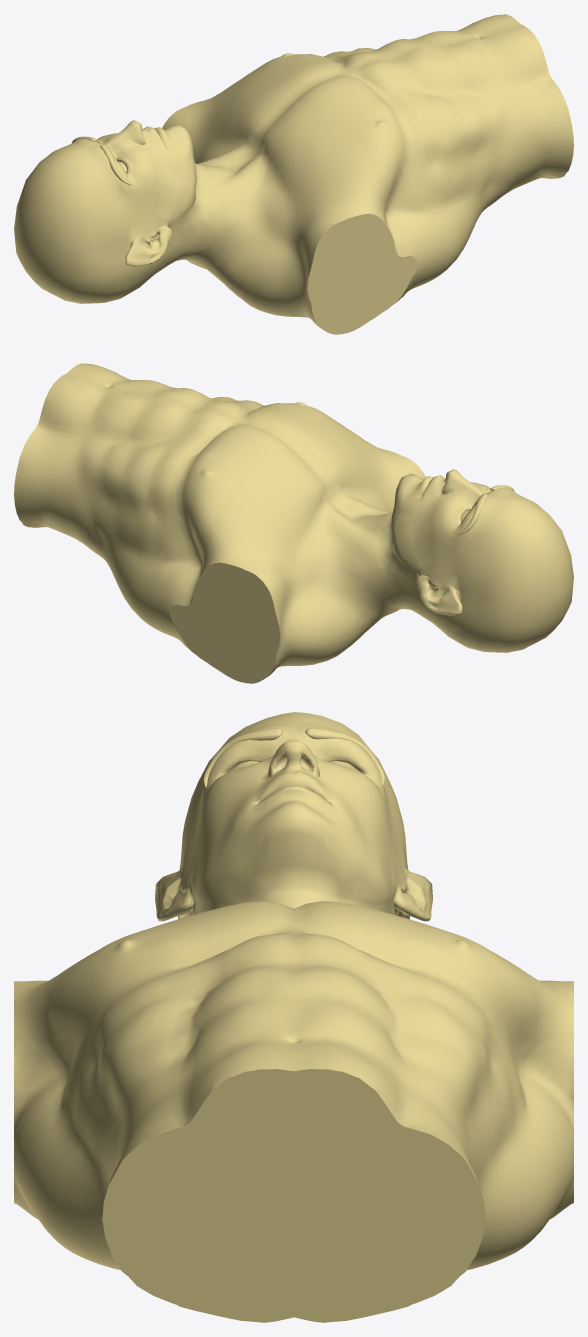
Rendered from phantom.glb.
The picture shows the model from 3 angles, top to bottom: view 1: azimuth 30°, elevation 25°; view 2: azimuth 150°, elevation 25°; view 3: azimuth 270°, elevation 25°; orthographic projection. The views are drawn at different scales.
Visible parts, largest first — view 1: Man Body.0_Male Body_0; view 2: Man Body.0_Male Body_0; view 3: Man Body.0_Male Body_0.
Part boxes in pixels (bbox=[...]): Man Body.0_Male Body_0: bbox=[14, 14, 573, 334]; Man Body.0_Male Body_0: bbox=[14, 363, 573, 683]; Man Body.0_Male Body_0: bbox=[14, 712, 573, 1322].
Bounding box in the file's own units: 0.8909 × 0.3636 × 0.4849.
